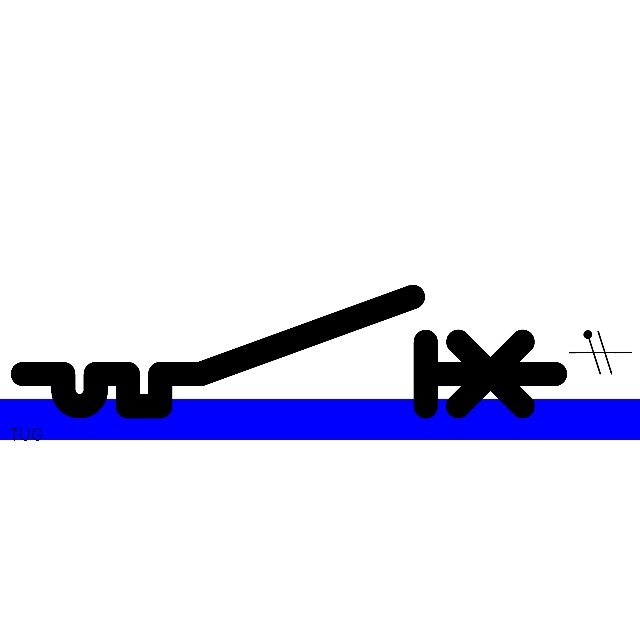interruptor_termomagnetico: (9, 283, 569, 420)
